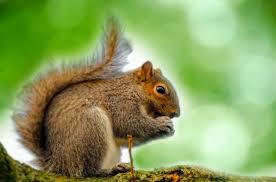Ardilla: (81, 59, 189, 164)
